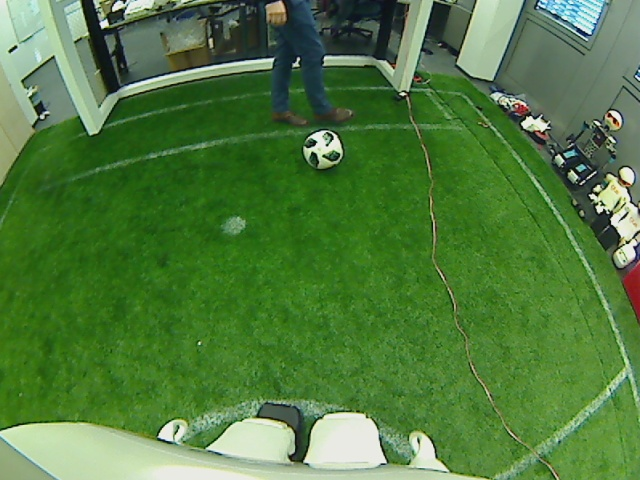ball: (301, 127, 344, 171)
